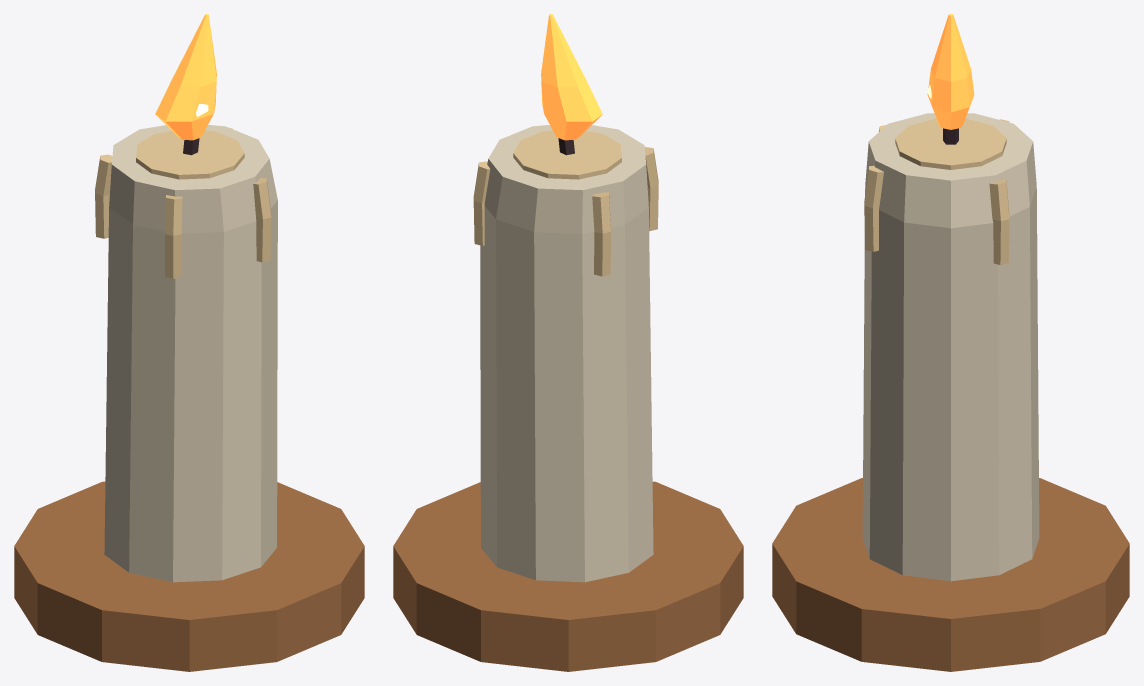
The model's file is candle_cream.glb.
The picture shows the model from 3 angles, left to right: view 1: azimuth 30°, elevation 25°; view 2: azimuth 150°, elevation 25°; view 3: azimuth 270°, elevation 25°; orthographic projection. The views are drawn at different scales.
Parts seen in each view (by area): view 1: Poured candle wax, Warm brass saucer, Outer flame, Melted wax pool, Wax drip.002, Wax drip.003, Wax drip.001; view 2: Poured candle wax, Warm brass saucer, Outer flame, Melted wax pool, Wax drip.001, Wax drip, Wax drip.002; view 3: Poured candle wax, Warm brass saucer, Melted wax pool, Outer flame, Wax drip, Wax drip.003.
Part boxes in pixels (x1,y1,x2,y2): Poured candle wax: (104,125,277,582); Warm brass saucer: (14,481,364,671); Outer flame: (155,14,216,140); Melted wax pool: (136,130,244,179); Wax drip.002: (165,195,182,278); Wax drip.003: (253,178,271,262); Wax drip.001: (95,154,112,238); Poured candle wax: (480,125,653,582); Warm brass saucer: (393,481,743,671); Outer flame: (541,14,602,140); Melted wax pool: (513,130,621,179); Wax drip.001: (592,192,610,276); Wax drip: (473,161,490,245); Wax drip.002: (644,147,658,230); Poured candle wax: (862,113,1039,581); Warm brass saucer: (772,478,1129,671); Melted wax pool: (895,118,1006,169); Outer flame: (927,14,974,129); Wax drip: (989,179,1009,264); Wax drip.003: (864,165,883,251).
Bounding box in the file's own units: 0.104 × 0.1895 × 0.104.
